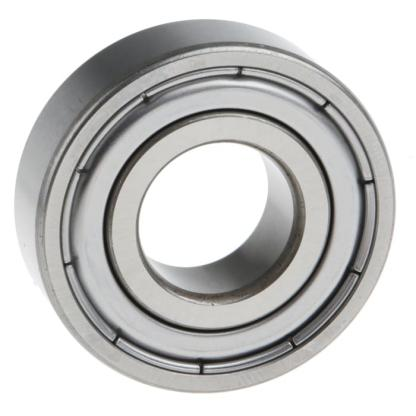FOD: (10, 5, 409, 406)
